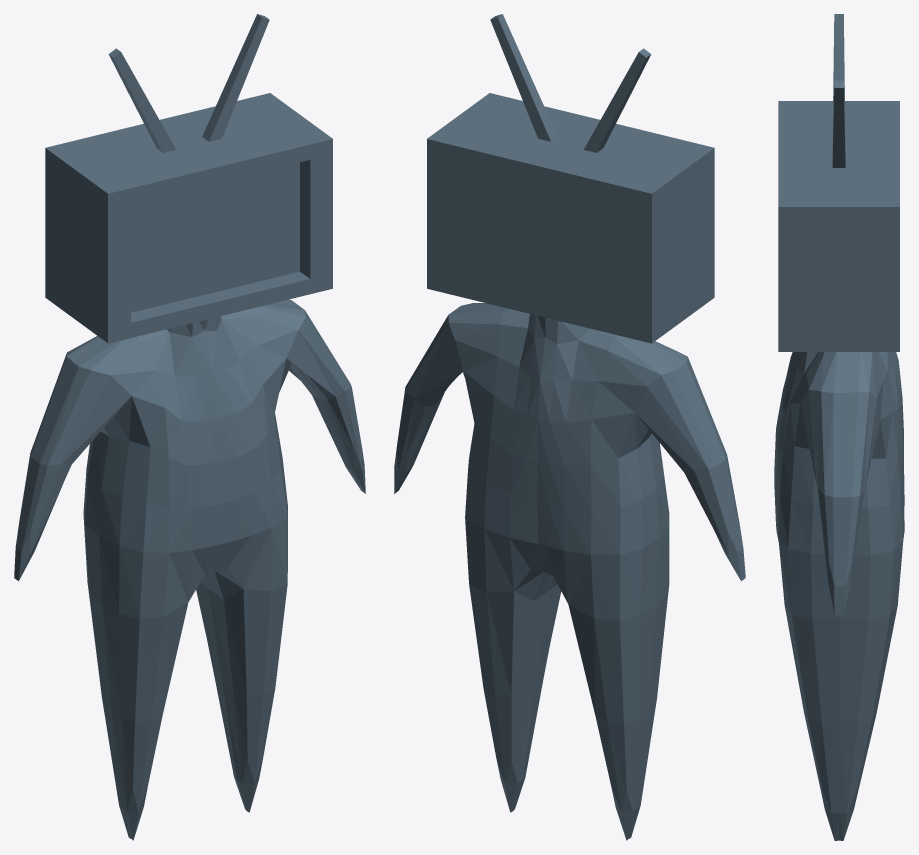
Rendered from TVhead-standing.dae.
3 renders of one model, left to right at view 1: azimuth 30°, elevation 25°; view 2: azimuth 150°, elevation 25°; view 3: azimuth 270°, elevation 25°, orthographic. The views are drawn at different scales.
Visible parts, largest first — view 1: Cube_004; view 2: Cube_004; view 3: Cube_004.
Boxes of the visible parts, bbox=[...] form: Cube_004: bbox=[14, 14, 365, 840]; Cube_004: bbox=[394, 14, 745, 840]; Cube_004: bbox=[774, 14, 904, 840].
Size of the model in its own units: 3.6 by 1.21 by 7.86.
